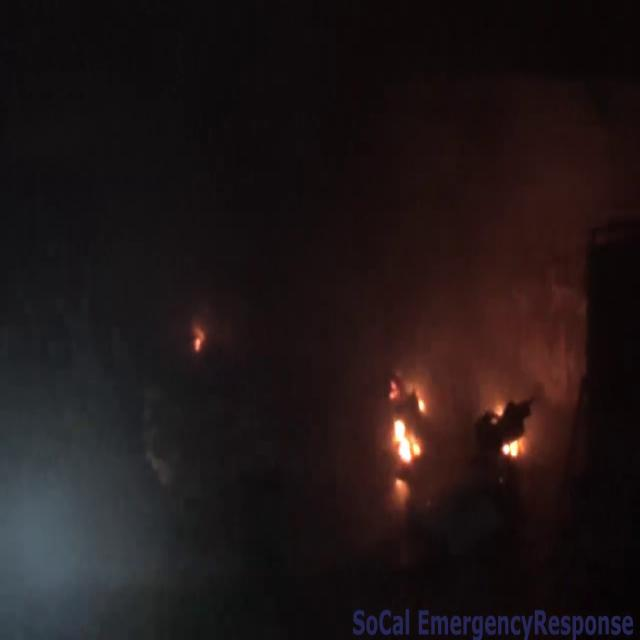Fire: (388, 397, 426, 476), (500, 435, 528, 463)
